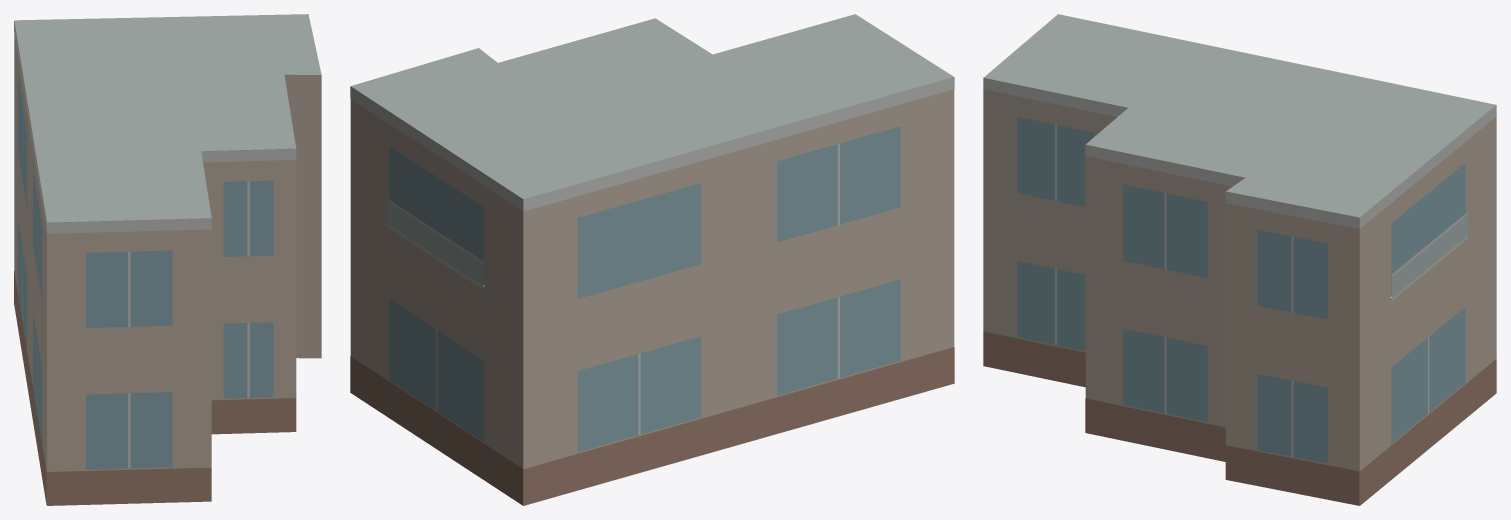
The model's file is survey-upis-32812370.glb.
The picture shows the model from 3 angles, left to right: view 1: azimuth 30°, elevation 25°; view 2: azimuth 150°, elevation 25°; view 3: azimuth 270°, elevation 25°; orthographic projection. The views are drawn at different scales.
Visible parts, largest first — view 1: survey-upis-32812370.tmp; view 2: survey-upis-32812370.tmp; view 3: survey-upis-32812370.tmp.
Boxes of the visible parts, x1,y1,x2,y2 form: survey-upis-32812370.tmp: [14, 14, 321, 505]; survey-upis-32812370.tmp: [350, 14, 954, 505]; survey-upis-32812370.tmp: [983, 14, 1496, 505].
Size of the model in its own units: 9.25 by 6.1 by 9.85.
